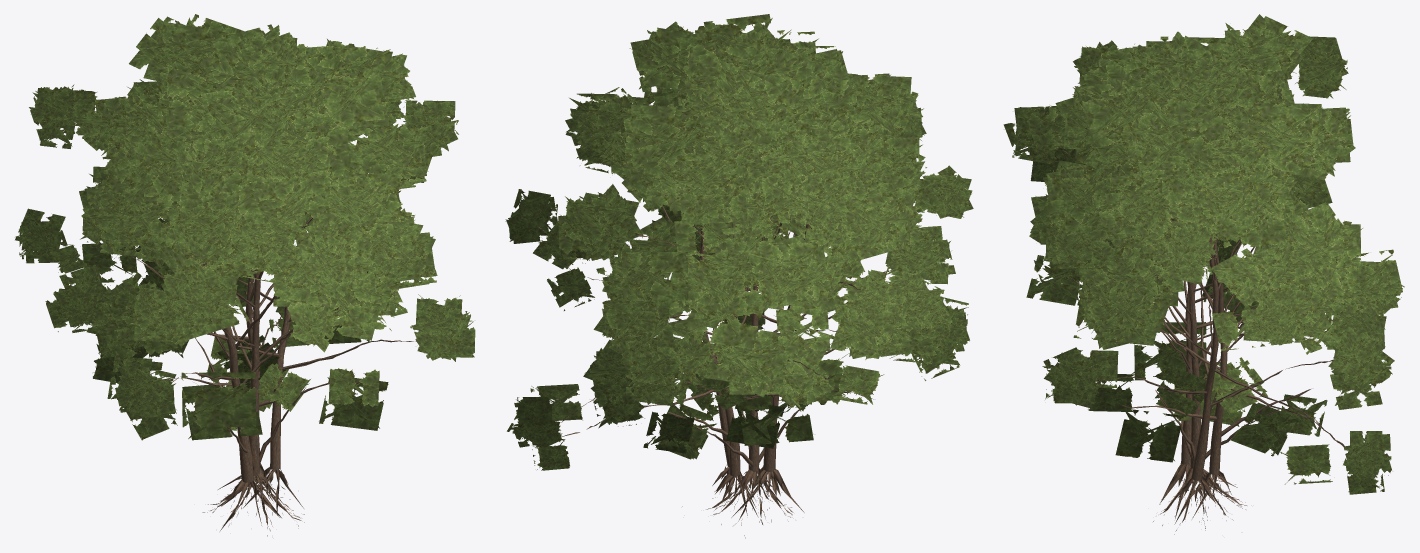
The model's file is eu43-4-mass.glb.
The picture shows the model from 3 angles, left to right: view 1: azimuth 30°, elevation 25°; view 2: azimuth 150°, elevation 25°; view 3: azimuth 270°, elevation 25°; orthographic projection. The views are drawn at different scales.
Size of the model in its own units: 401 by 450 by 347.
2 materials, 2 textured.
